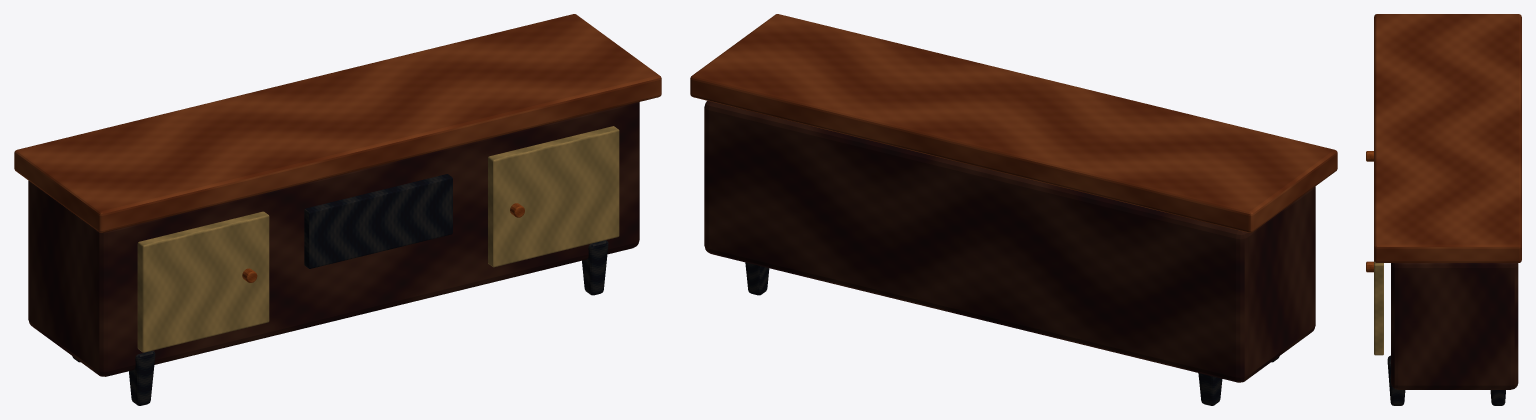
File: tv-stand-pbr-v1.glb
3 views of the same model, side by side, from view 1: azimuth 30°, elevation 25°; view 2: azimuth 150°, elevation 25°; view 3: azimuth 270°, elevation 25° (orthographic). The views are drawn at different scales.
Parts seen in each view (by area): view 1: tvstand-oak-top, tvstand-walnut-case, tvstand-slat-door-0, tvstand-slat-door-1, tvstand-graphite-open-bay, tvstand-leg.002, tvstand-leg; view 2: tvstand-walnut-case, tvstand-oak-top, tvstand-leg.003, tvstand-leg.001; view 3: tvstand-oak-top, tvstand-walnut-case, tvstand-slat-door-1, tvstand-leg.002, tvstand-leg.003.
Part boxes in pixels (x1=…): tvstand-oak-top: x1=14, y1=14, x2=661, y2=232; tvstand-walnut-case: x1=28, y1=102, x2=639, y2=376; tvstand-slat-door-0: x1=137, y1=211, x2=269, y2=352; tvstand-slat-door-1: x1=488, y1=126, x2=619, y2=267; tvstand-graphite-open-bay: x1=304, y1=174, x2=452, y2=268; tvstand-leg.002: x1=582, y1=240, x2=608, y2=295; tvstand-leg: x1=129, y1=351, x2=155, y2=405; tvstand-walnut-case: x1=704, y1=101, x2=1315, y2=382; tvstand-oak-top: x1=690, y1=14, x2=1337, y2=232; tvstand-leg.003: x1=745, y1=262, x2=769, y2=295; tvstand-leg.001: x1=1198, y1=373, x2=1222, y2=405; tvstand-oak-top: x1=1374, y1=14, x2=1521, y2=262; tvstand-walnut-case: x1=1391, y1=263, x2=1518, y2=389; tvstand-slat-door-1: x1=1374, y1=261, x2=1383, y2=355; tvstand-leg.002: x1=1387, y1=355, x2=1405, y2=405; tvstand-leg.003: x1=1490, y1=390, x2=1505, y2=405.
Size of the model in its own units: 1.64 by 0.595 by 0.4635.
5 materials, 5 textured.
